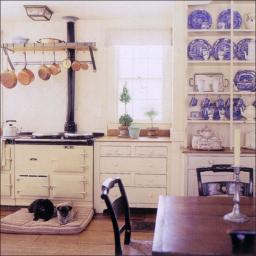Otro Obstaculo: (2, 211, 97, 236), (29, 199, 53, 223), (56, 198, 73, 228)
